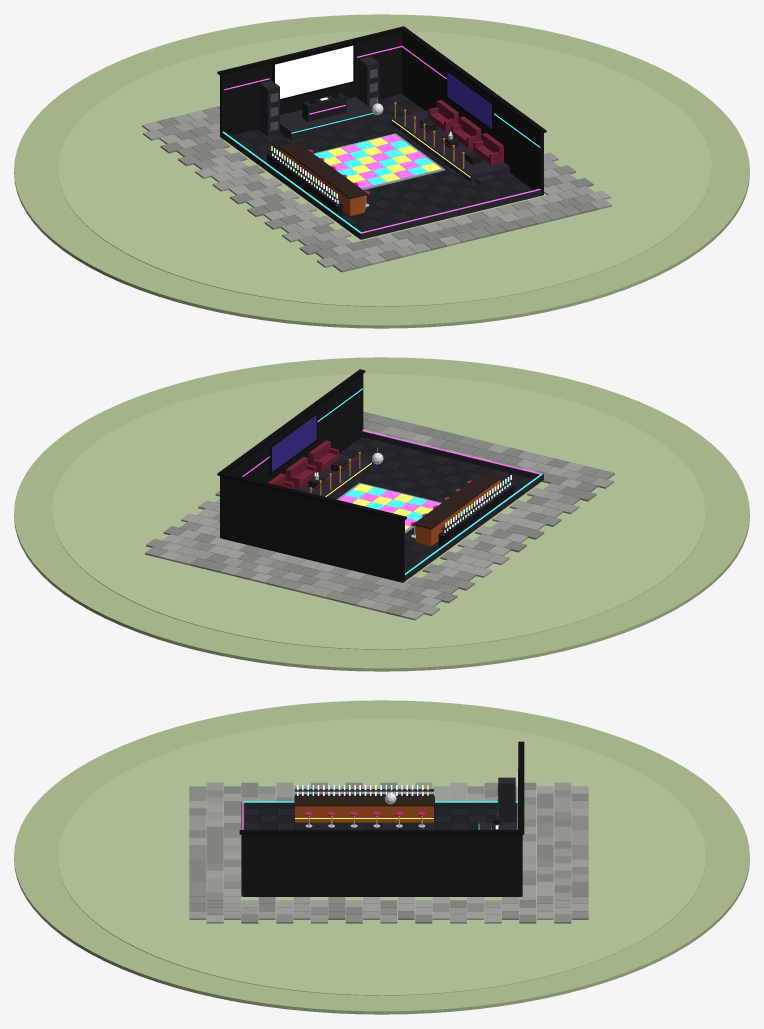
File: club-sazza.glb
3 renders of one model, top to bottom at view 1: azimuth 30°, elevation 25°; view 2: azimuth 150°, elevation 25°; view 3: azimuth 270°, elevation 25°, orthographic.
Visible parts, largest first — view 1: GrassInner, GrassInner.001, Grass, ClubWall.001, ClubWall, Pavers2, ClubFloor0, ClubFloor1, Pavers3, Pavers0, Pavers1, ClubScreen (+16 smaller); view 2: GrassInner, Grass, GrassInner.001, ClubWall, Pavers2, Pavers0, Pavers3, Pavers1, ClubWall.001, ClubFloor0, ClubFloor1, BarTop (+9 smaller); view 3: GrassInner, GrassInner.001, Grass, ClubWall.001, Pavers2, Pavers0, Pavers3, Pavers1, BarFront, ClubFloor0, ClubFloor1, BarTop (+4 smaller).
Boxes of the visible parts, x1,y1,x2,y2 form: GrassInner: (58, 32, 705, 306); GrassInner.001: (65, 31, 711, 303); Grass: (14, 14, 749, 328); ClubWall.001: (402, 32, 543, 195); ClubWall: (220, 31, 402, 135); Pavers2: (142, 110, 610, 264); ClubFloor0: (238, 94, 531, 232); ClubFloor1: (230, 97, 533, 230); Pavers3: (157, 114, 596, 261); Pavers0: (143, 114, 611, 267); Pavers1: (158, 106, 595, 272); ClubScreen: (275, 45, 353, 98); GrassInner: (58, 375, 705, 649); Grass: (14, 357, 749, 671); GrassInner.001: (52, 374, 699, 646); ClubWall: (220, 476, 404, 582); Pavers2: (160, 428, 584, 620); Pavers0: (175, 426, 613, 615); Pavers3: (163, 411, 597, 616); Pavers1: (145, 414, 614, 610); ClubWall.001: (220, 374, 363, 538); ClubFloor0: (332, 440, 533, 572); ClubFloor1: (331, 437, 525, 567); BarTop: (413, 472, 501, 529); GrassInner: (58, 718, 705, 992); GrassInner.001: (58, 721, 705, 995); Grass: (14, 700, 749, 1014); ClubWall.001: (241, 834, 522, 896); Pavers2: (189, 782, 588, 923); Pavers0: (189, 782, 588, 923); Pavers3: (189, 782, 588, 923); Pavers1: (189, 782, 588, 923); BarFront: (295, 806, 433, 822); ClubFloor0: (244, 808, 517, 829); ClubFloor1: (244, 808, 517, 829); BarTop: (294, 796, 434, 806).
Size of the model in its own units: 42.36 by 4.57 by 42.36.
